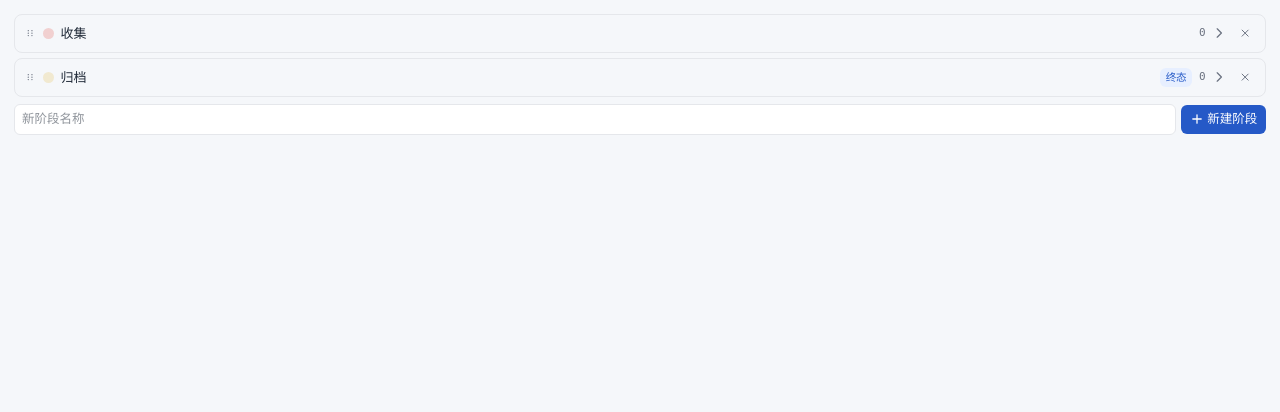
Test: StageManager › 点击阶段行展开/收起 StageEditor 编辑面板
Expected: the text "显示名" is not shown
Step 1. Click the text "收集" → (74, 33), box [60,25,86,41]
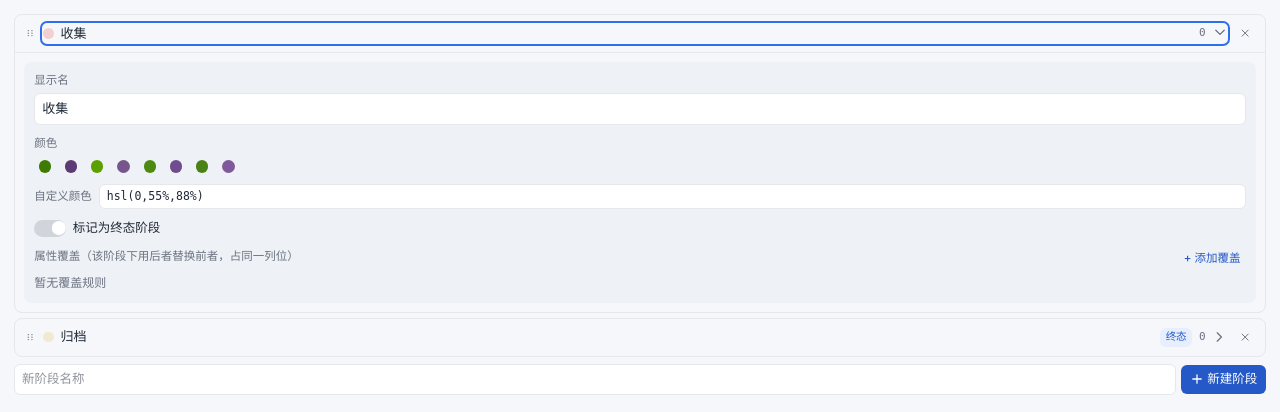
Expected: the text "显示名" is shown, [34,73,69,87]
Step 2. Click the text "收集" → (74, 33), box [60,25,86,41]
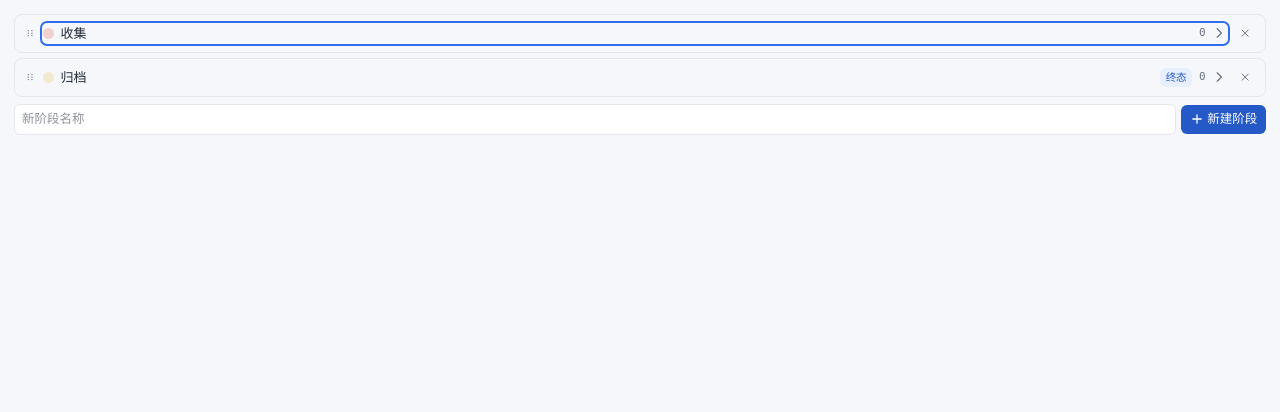
Expected: the text "显示名" is gone
